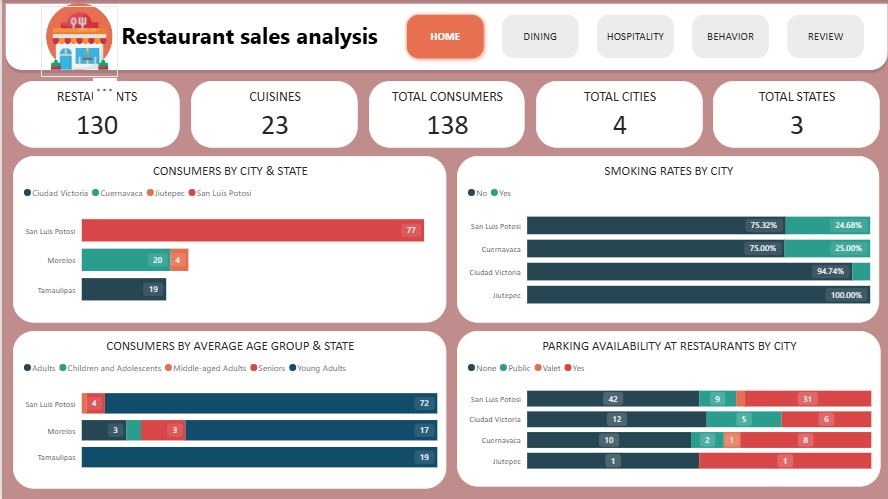

This screenshot's page, from the dashboard's own definition file:
{"tool":"powerbi","page":{"name":"HOME","canvas":[1280,720],"ordinal":0},"visuals":[{"type":"shape","box":[0,0,1280.5,105.9],"z":0},{"type":"card","title":"TOTAL CITIES","fields":{"Values":["Count(restaurants.City)"]},"box":[768.4,116.5,240,96],"z":1000},{"type":"card","title":"RESTAURANTS","fields":{"Values":["Count(restaurants.Restaurant_ID)"]},"box":[16.4,116.5,240,96],"z":2000},{"type":"card","title":"CUISINES","fields":{"Values":["Count(restaurant_cuisines.Cuisine)"]},"box":[272.4,116.5,240,96],"z":3000},{"type":"card","title":"TOTAL CONSUMERS","fields":{"Values":["Count(consumer_preferences.Consumer_ID)"]},"box":[528.4,116.5,224,96],"z":4000},{"type":"card","title":"TOTAL STATES","fields":{"Values":["Count(restaurants.State)"]},"box":[1024.4,116.5,240,96],"z":5000},{"type":"pageNavigator","box":[574.6,13,678.2,79.2],"z":6000},{"type":"barChart","title":"CONSUMERS BY CITY & STATE","fields":{"Y":["CountNonNull(consumers.Consumer_ID)"],"Category":["consumers.State"],"Series":["consumers.City"]},"box":[15.7,224.1,624.1,239.8],"z":7000},{"type":"hundredPercentStackedBarChart","title":"CONSUMERS BY AVERAGE AGE GROUP & STATE","fields":{"Category":["consumers.State"],"Y":["CountNonNull(consumers.Consumer_ID)"],"Series":["consumers.AgeGroup"]},"box":[15.7,477.1,624.1,226.5],"z":8000},{"type":"hundredPercentStackedBarChart","title":"SMOKING RATES BY CITY","fields":{"Y":["CountNonNull(consumers.Consumer_ID)"],"Category":["consumers.City"],"Series":["consumers.Smoker"]},"box":[655.4,224.1,608.4,239.8],"z":9000},{"type":"hundredPercentStackedBarChart","title":"PARKING AVAILABILITY AT RESTAURANTS BY CITY","fields":{"Category":["restaurants.City"],"Y":["CountNonNull(restaurants.Restaurant_ID)"],"Series":["restaurants.Parking"]},"box":[655.4,477.1,609.6,224.1],"z":10000},{"type":"shape","box":[63.7,4.4,96.2,96.7],"z":11000},{"type":"image","box":[56,9.3,111.5,101.1],"z":12000},{"type":"textbox","box":[167,23,394.6,59],"z":12001}]}

Visuals, with their boxes in screenshot pixels (x1, y1, x2, y2), scaled from the page's 1280x720 canvas onto the 888x499 screenshot:
shape: bbox(0, 0, 887, 73)
"TOTAL CITIES" card: bbox(533, 81, 700, 147)
"RESTAURANTS" card: bbox(11, 81, 178, 147)
"CUISINES" card: bbox(189, 81, 355, 147)
"TOTAL CONSUMERS" card: bbox(367, 81, 522, 147)
"TOTAL STATES" card: bbox(711, 81, 877, 147)
pageNavigator: bbox(399, 9, 869, 64)
"CONSUMERS BY CITY & STATE" barChart: bbox(11, 155, 444, 322)
"CONSUMERS BY AVERAGE AGE GROUP & STATE" hundredPercentStackedBarChart: bbox(11, 331, 444, 488)
"SMOKING RATES BY CITY" hundredPercentStackedBarChart: bbox(455, 155, 877, 322)
"PARKING AVAILABILITY AT RESTAURANTS BY CITY" hundredPercentStackedBarChart: bbox(455, 331, 878, 486)
shape: bbox(44, 3, 111, 70)
image: bbox(39, 6, 116, 77)
textbox: bbox(116, 16, 390, 57)
